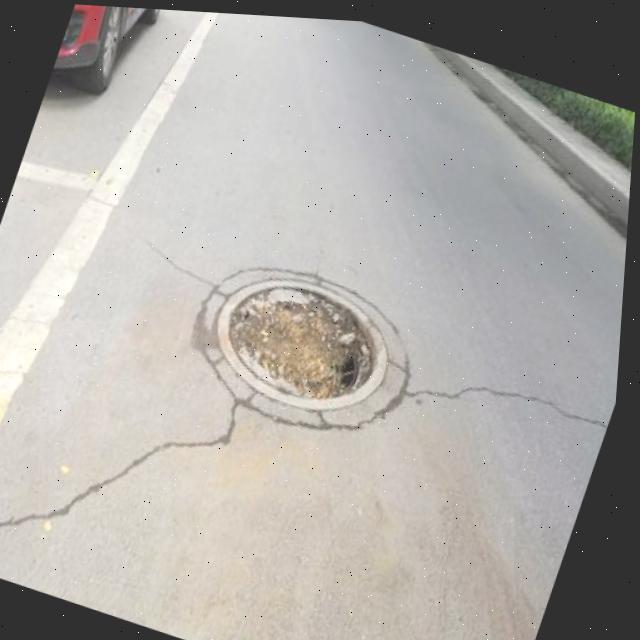manhole: (199, 244, 416, 426)
